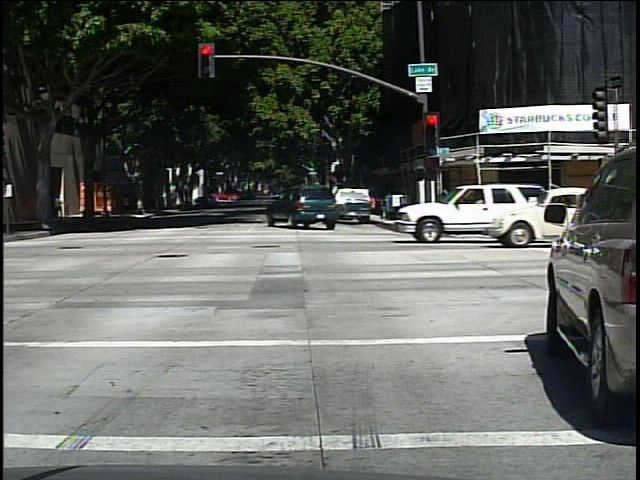person: (55, 189, 66, 223)
